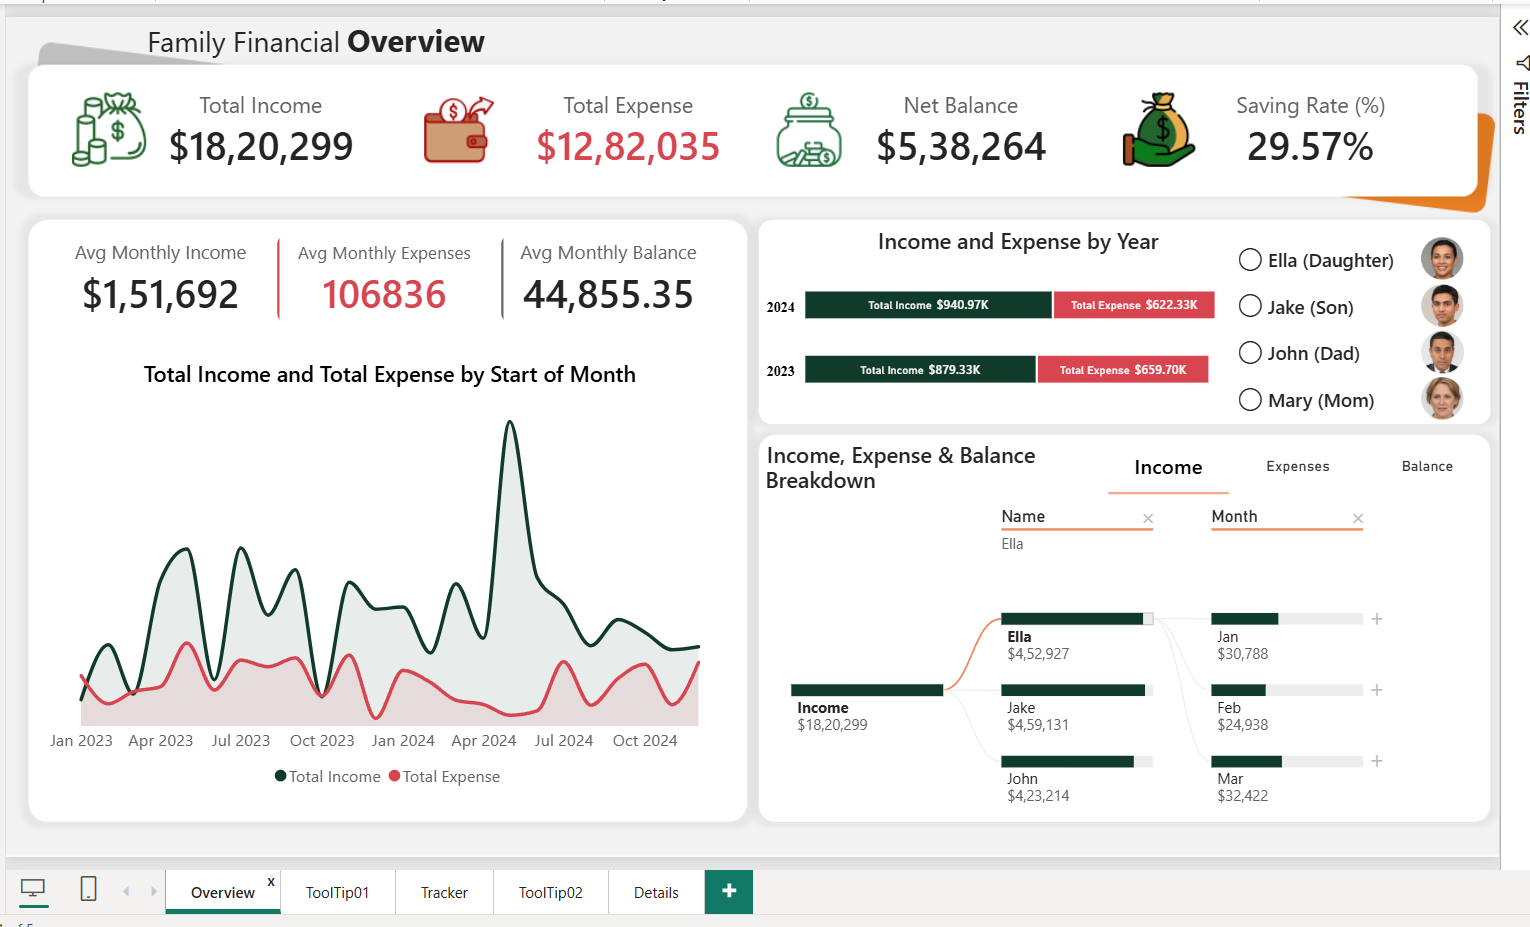

Layout of this report page (visuals, bound fields, positions):
{"tool":"powerbi","page":{"name":"Overview","canvas":[1280,720],"ordinal":0},"visuals":[{"type":"lineChart","title":"Total Income and Total Expense by Start of Month","fields":{"Category":["Date.StartOfMonth"],"Y":["1DAX_Calaculation.Total Income","1DAX_Calaculation.Total Expense"]},"box":[20.3,278.8,617.2,401.7],"z":0},{"type":"cardVisual","fields":{"Data":["1DAX_Calaculation.Avg Monthly Income","1DAX_Calaculation.Avg Monthly Expenses","1DAX_Calaculation.Avg Monthly Net Balance"]},"box":[20.3,186.3,610.9,76],"z":1000},{"type":"barChart","title":"Total Income and Total Expense by Year","fields":{"Category":["Date.Year"],"Y":["1DAX_Calaculation.Total Income","1DAX_Calaculation.Total Expense"]},"box":[640.6,178.9,394.2,167.1],"z":2000},{"type":"decompositionTreeVisual","fields":{"Analyze":["1DAX_Calaculation.Total Income"],"ExplainBy":["Img.Name","Date.Month","FactTable.Category","FactTable.Recurring","FactTable.Type"]},"box":[648.1,415.7,621.4,274.3],"z":3000},{"type":"advancedSlicerVisual","fields":{"Values":["SelectedMeasures.SelectedMeasures"]},"box":[944.7,360.6,325.3,48.8],"z":4000},{"type":"cardVisual","fields":{"Data":["1DAX_Calaculation.Total Income","1DAX_Calaculation.Total Expense","1DAX_Calaculation.Net Balance","1DAX_Calaculation.Saving Rate (%)"]},"box":[20.3,45.6,1233.1,103.9],"z":5000},{"type":"textbox","box":[688.5,178.7,357.4,38],"z":6000},{"type":"listSlicer","fields":{"Values":["Img.Full Name"]},"box":[1045.5,167.3,229.7,190],"z":7000},{"type":"textbox","box":[648.5,361.7,243.2,32.2],"z":8000},{"type":"textbox","box":[648.5,383.5,99.8,32.2],"z":9000},{"type":"textbox","box":[120.6,1,304.5,38.5],"z":10000}]}

Visuals, with their boxes on the page's 1280x720 design canvas (x1, y1, x2, y2). These are canvas units, not pixel positions in the 1530x927 screenshot, which may show the page scaled, cropped or inside an application window:
"Total Income and Total Expense by Start of Month" lineChart: BBox(20, 279, 638, 680)
cardVisual - 1DAX_Calaculation.Avg Monthly Income x 1DAX_Calaculation.Avg Monthly Expenses: BBox(20, 186, 631, 262)
"Total Income and Total Expense by Year" barChart: BBox(641, 179, 1035, 346)
decompositionTreeVisual - 1DAX_Calaculation.Total Income x Img.Name: BBox(648, 416, 1270, 690)
advancedSlicerVisual - SelectedMeasures.SelectedMeasures: BBox(945, 361, 1270, 409)
cardVisual - 1DAX_Calaculation.Total Income x 1DAX_Calaculation.Total Expense: BBox(20, 46, 1253, 150)
textbox: BBox(688, 179, 1046, 217)
listSlicer - Img.Full Name: BBox(1046, 167, 1275, 357)
textbox: BBox(648, 362, 892, 394)
textbox: BBox(648, 384, 748, 416)
textbox: BBox(121, 1, 425, 40)
